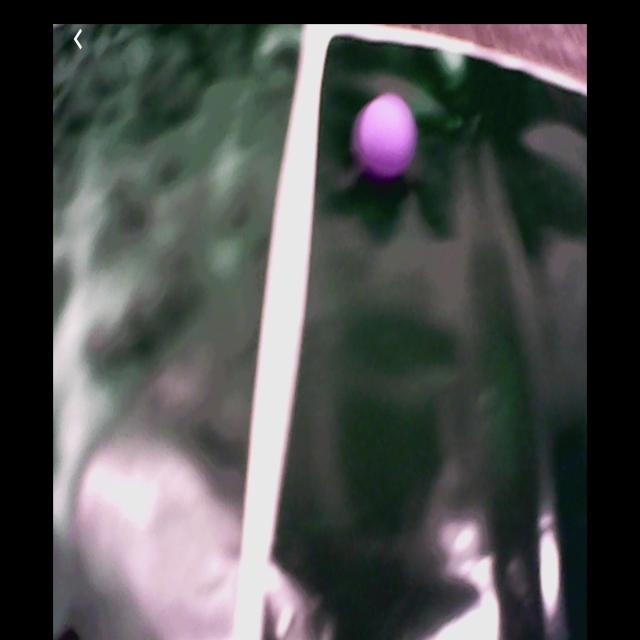ball: (361, 94, 416, 175)
